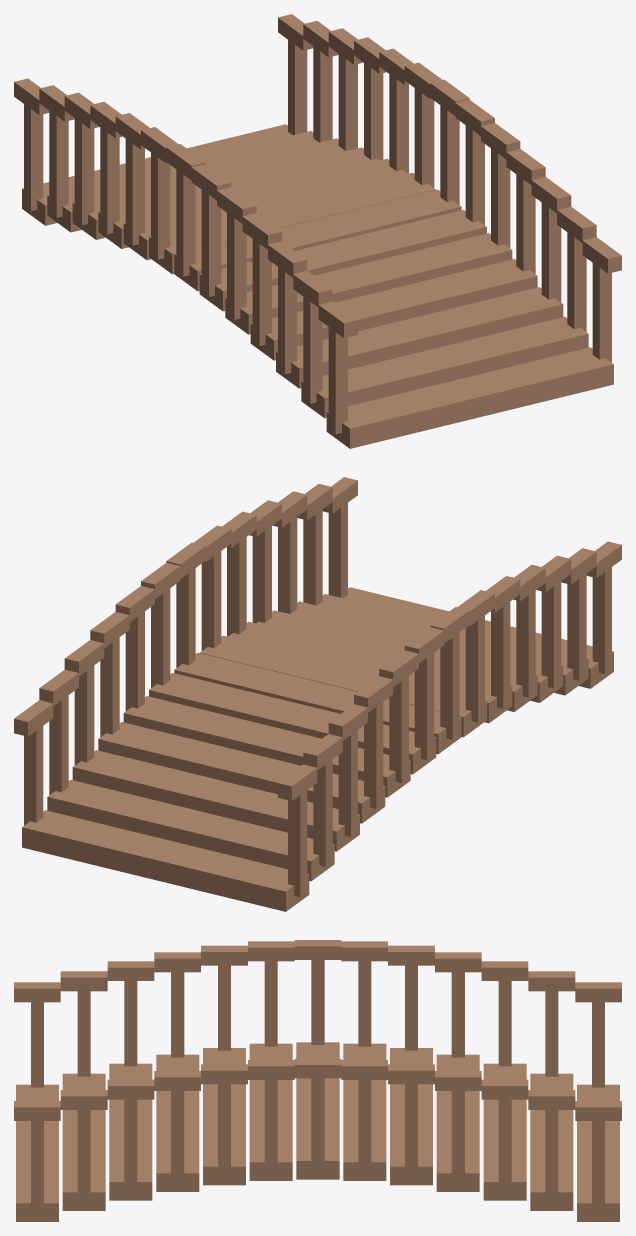
Rendered from bridge-prototype.gltf.
3 views of the same model, one above another, from view 1: azimuth 30°, elevation 25°; view 2: azimuth 150°, elevation 25°; view 3: azimuth 270°, elevation 25° (orthographic). The views are drawn at different scales.
Size of the model in its own units: 3.16 by 1.89 by 6.5.
